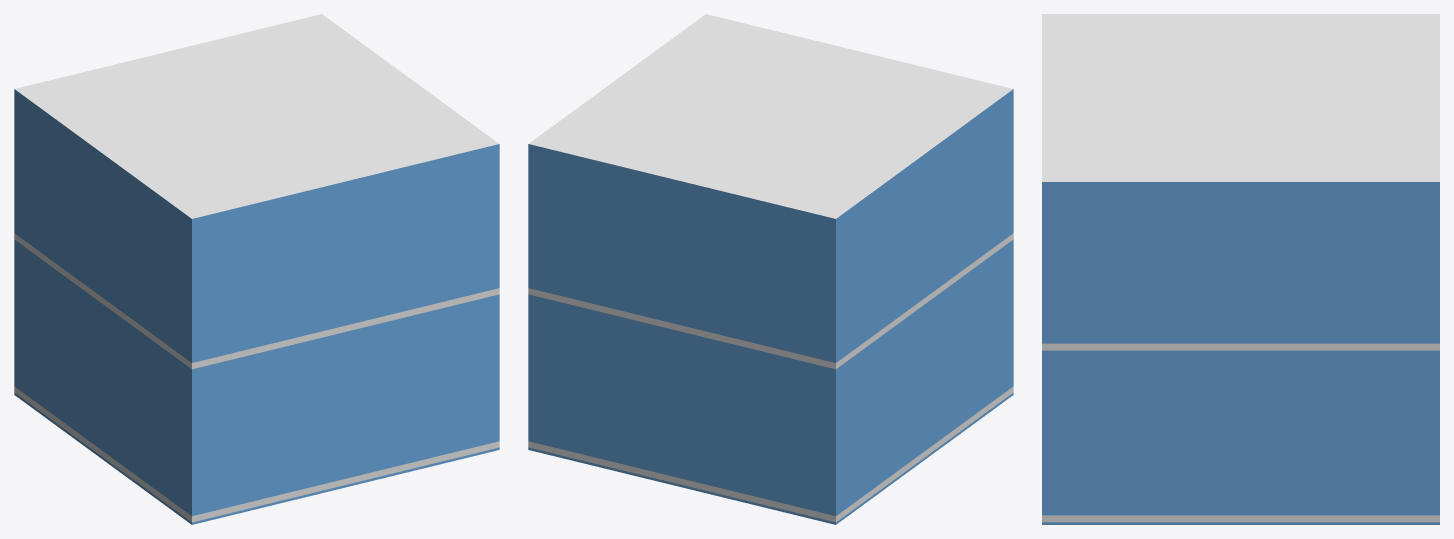
Rendered from building_1x1_6_f.glb.
The picture shows the model from 3 angles, left to right: view 1: azimuth 30°, elevation 25°; view 2: azimuth 150°, elevation 25°; view 3: azimuth 270°, elevation 25°; orthographic projection. The views are drawn at different scales.
Visible parts, largest first — view 1: Cube.001; view 2: Cube.001; view 3: Cube.001.
Boxes of the visible parts, x1=… form: Cube.001: x1=14, y1=14, x2=499, y2=524; Cube.001: x1=528, y1=14, x2=1013, y2=524; Cube.001: x1=1042, y1=14, x2=1439, y2=524.
Size of the model in its own units: 1.69 by 1.6 by 1.69.
